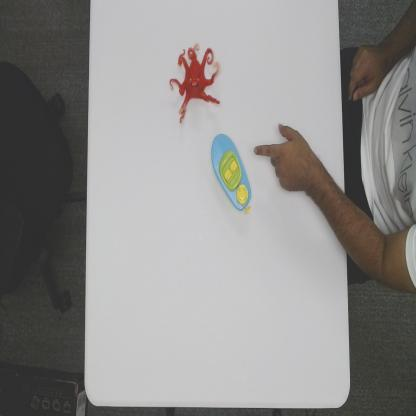Arm: (307, 140, 345, 249)
Boat: (211, 128, 251, 215)
Hand: (255, 122, 306, 193)
Octopus: (168, 37, 224, 125)
